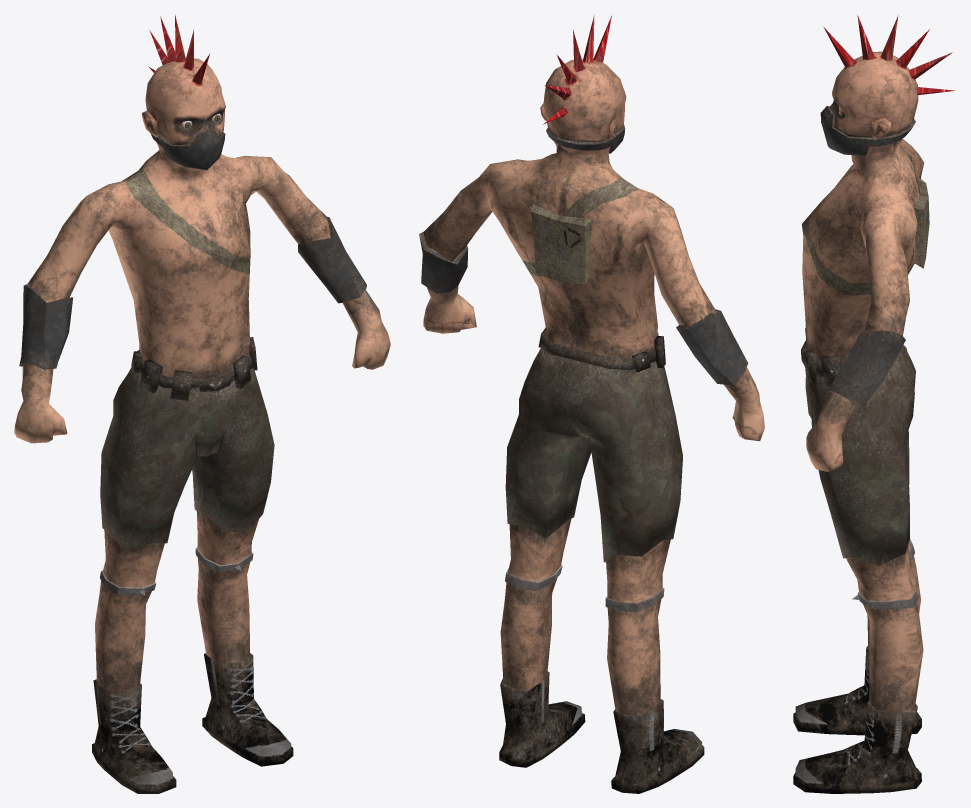
The model's file is Anim_idle_npc2.0028.obj.
The picture shows the model from 3 angles, left to right: view 1: azimuth 30°, elevation 25°; view 2: azimuth 150°, elevation 25°; view 3: azimuth 270°, elevation 25°; orthographic projection. The views are drawn at different scales.
Visible parts, largest first — view 1: polySurface1; view 2: polySurface1; view 3: polySurface1.
Part boxes in pixels (x1,y1,x2,y2): polySurface1: [14, 15, 390, 793]; polySurface1: [419, 15, 764, 793]; polySurface1: [793, 15, 955, 793].
Size of the model in its own units: 5.18 by 10.18 by 2.03.
